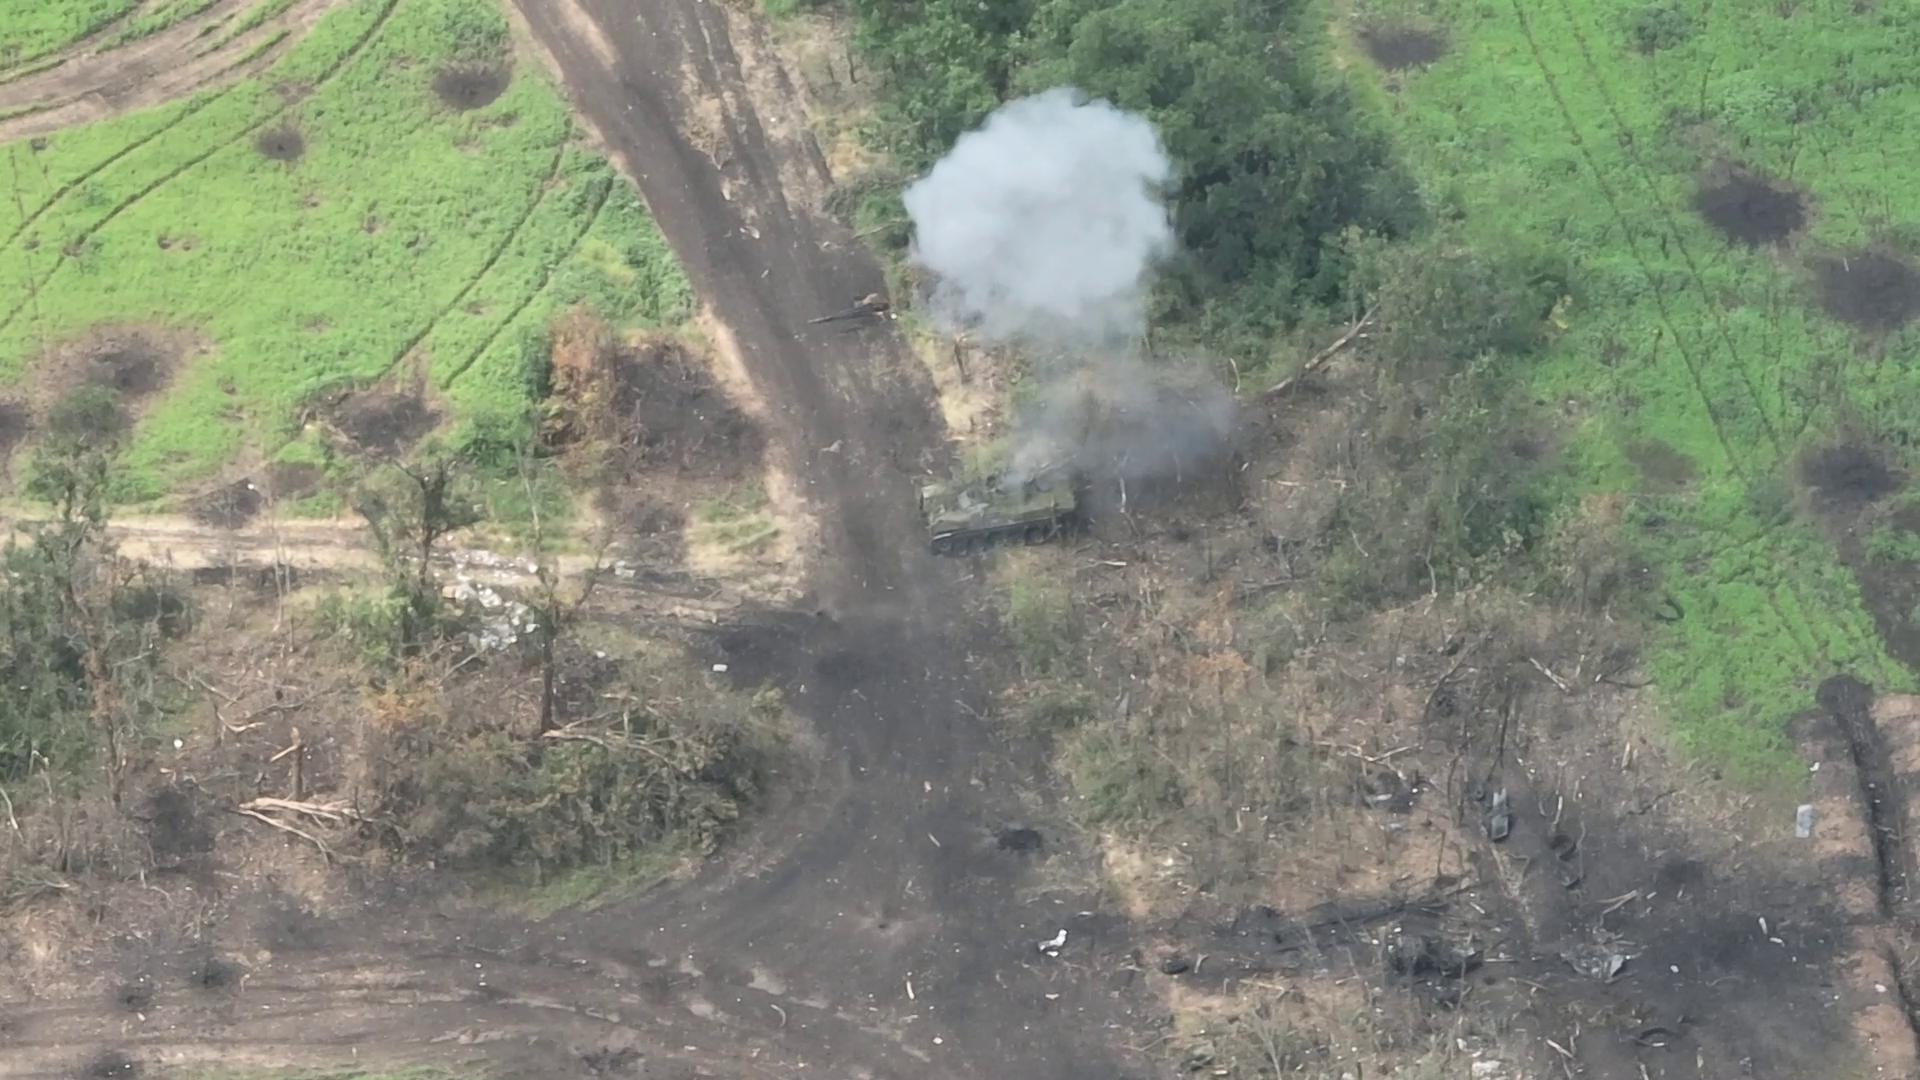tank: (915, 452, 1091, 558)
